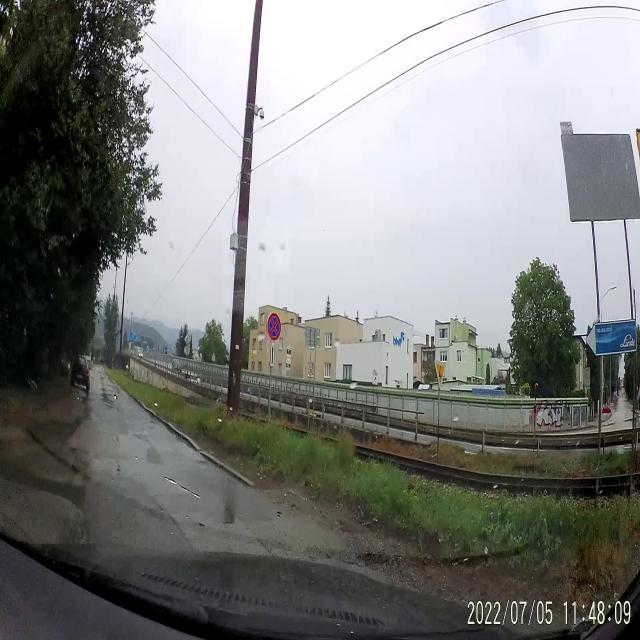Pothole: (162, 469, 202, 500), (275, 506, 283, 516), (198, 521, 206, 530), (115, 467, 122, 473), (113, 393, 118, 400), (276, 513, 280, 521), (134, 455, 139, 461), (116, 406, 120, 413), (116, 437, 120, 442)
